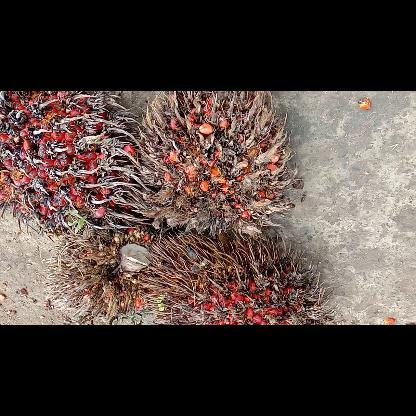Terlalu masak: (129, 91, 303, 241), (0, 90, 145, 238), (144, 232, 344, 324), (46, 216, 162, 324)
